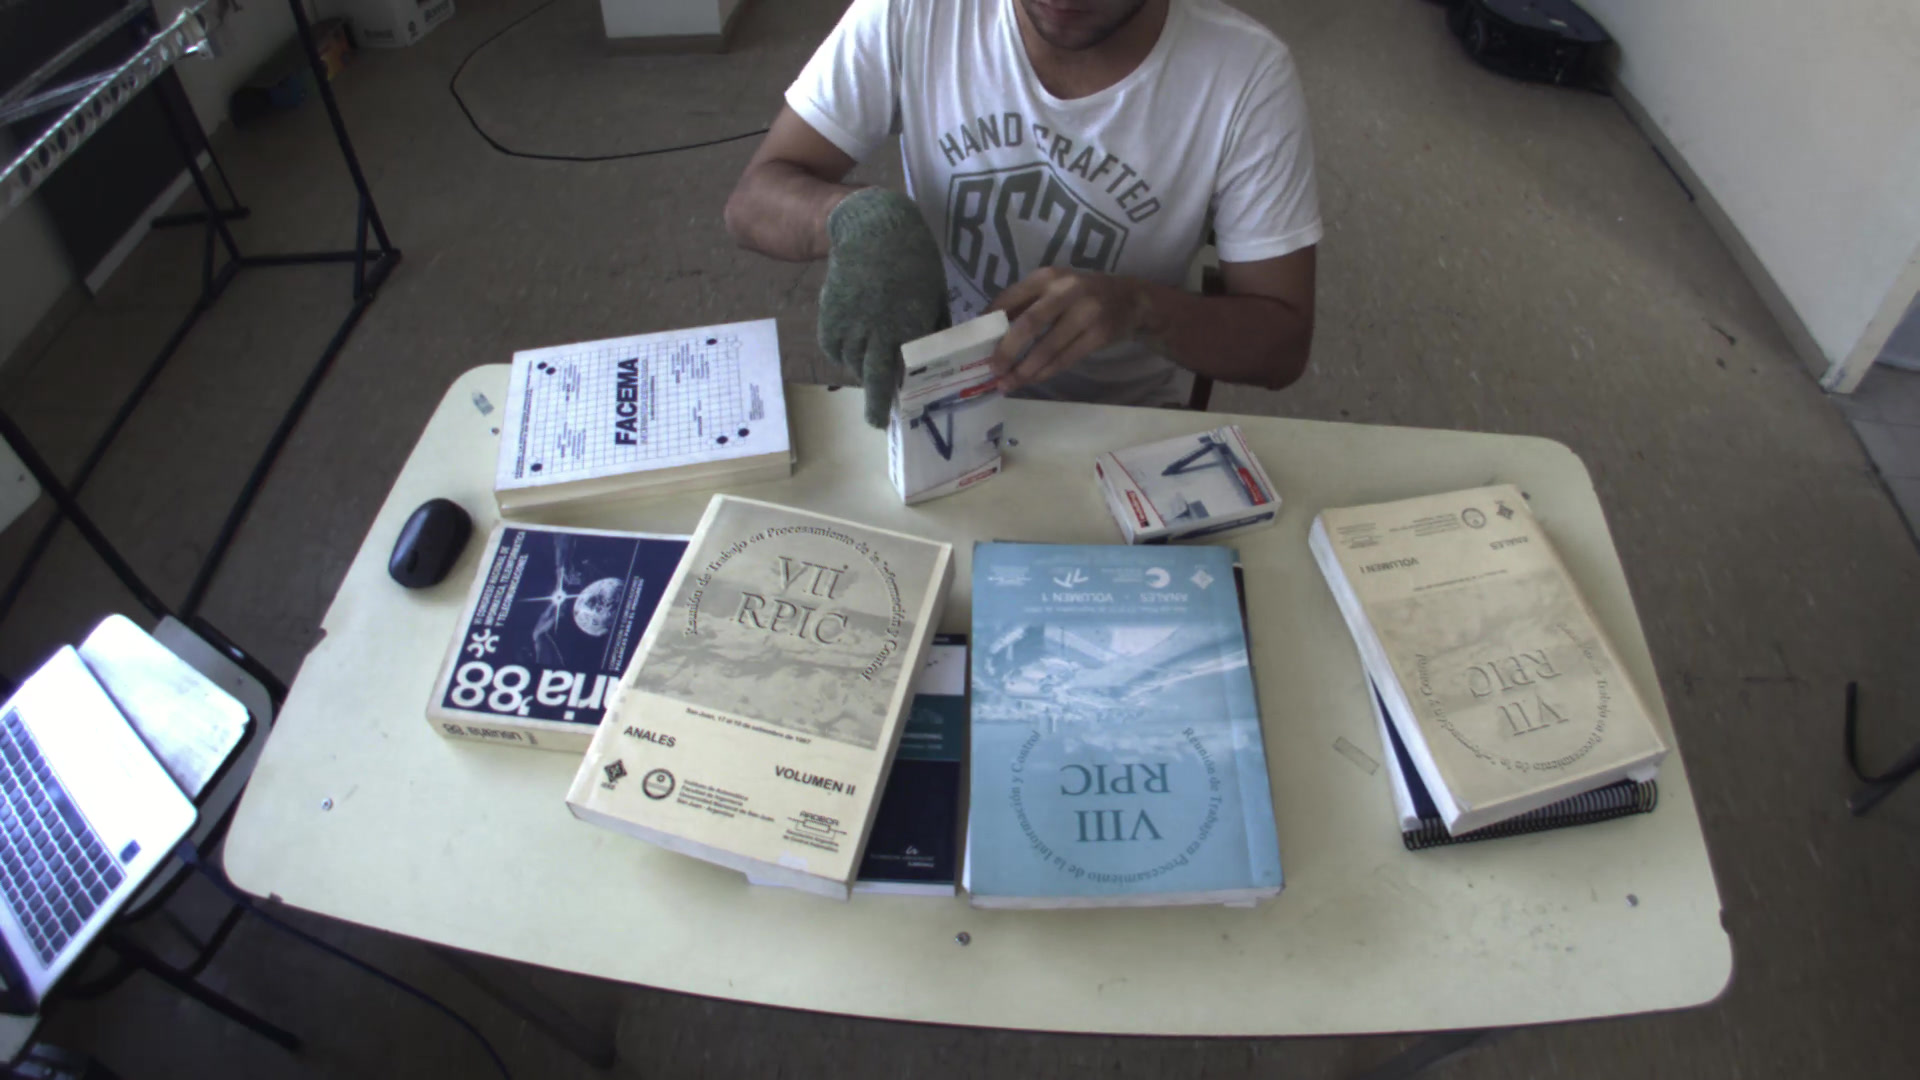hand: (806, 191, 959, 401), (980, 252, 1143, 392)
